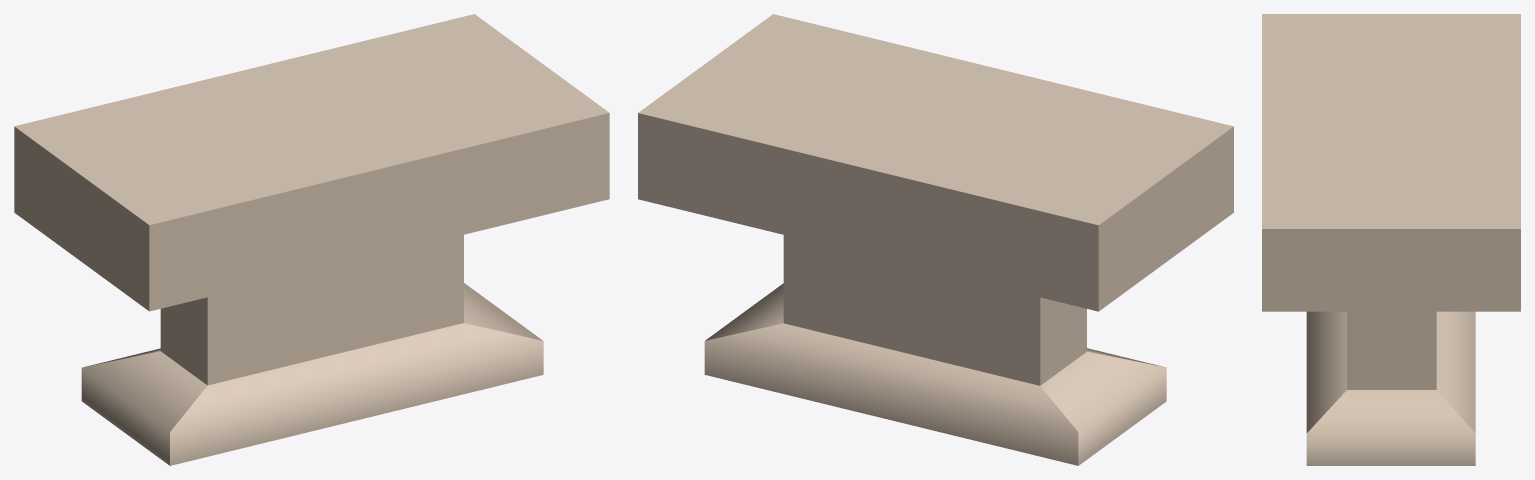
Rendered from altar.fbx.
3 views of the same model, side by side, from view 1: azimuth 30°, elevation 25°; view 2: azimuth 150°, elevation 25°; view 3: azimuth 270°, elevation 25° (orthographic). The views are drawn at different scales.
Visible parts, largest first — view 1: pCube1; view 2: pCube1; view 3: pCube1.
Part boxes in pixels (<box>): pCube1: <box>14,14,609,465</box>; pCube1: <box>638,14,1233,465</box>; pCube1: <box>1262,14,1520,465</box>.
Size of the model in its own units: 1.97 by 1.1 by 1.
